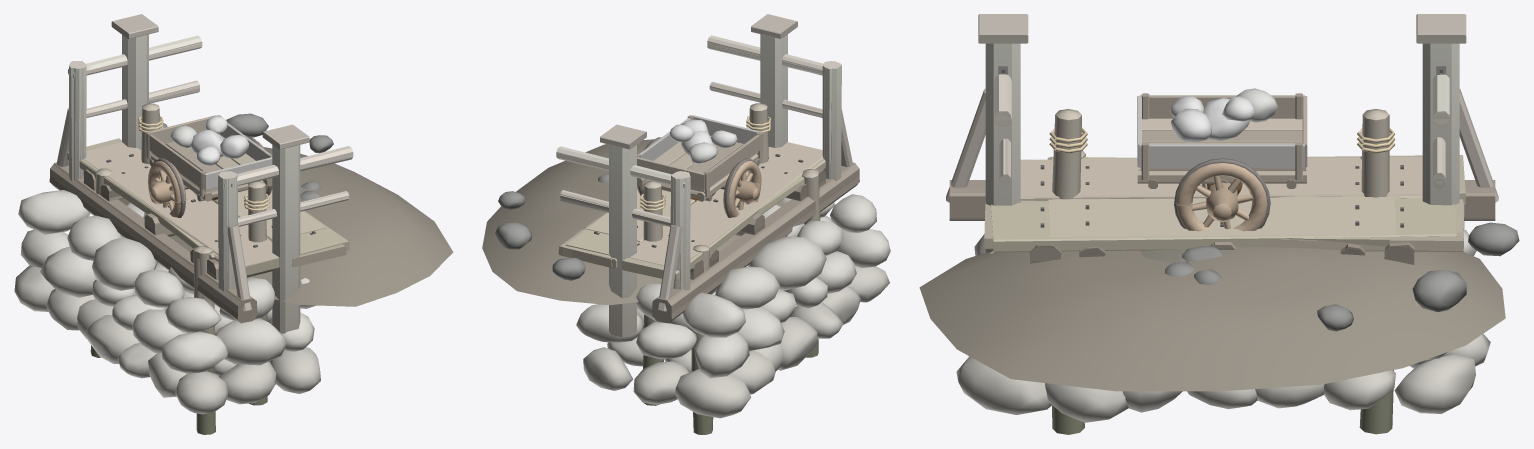
File: bridges_kit.glb
The picture shows the model from 3 angles, left to right: view 1: azimuth 30°, elevation 25°; view 2: azimuth 150°, elevation 25°; view 3: azimuth 270°, elevation 25°; orthographic projection. The views are drawn at different scales.
Visible parts, largest first — view 1: bridge_end, bridge_bay_a, miner_handcart, bridge_bay_b, bridge_bay_c, boardwalk_end, boardwalk_bay_b, boardwalk_bay_a; view 2: bridge_end, bridge_bay_a, miner_handcart, bridge_bay_c, bridge_bay_b, boardwalk_end, boardwalk_bay_a, boardwalk_bay_b; view 3: bridge_end, miner_handcart, bridge_bay_a, bridge_bay_c, boardwalk_bay_b, boardwalk_end, bridge_bay_b, boardwalk_bay_a.
Part boxes in pixels (x1,y1,x2,y2): bridge_end: (14, 14, 453, 414); bridge_bay_a: (49, 61, 352, 322); miner_handcart: (146, 115, 272, 217); bridge_bay_b: (50, 43, 353, 323); bridge_bay_c: (67, 35, 353, 322); boardwalk_end: (138, 103, 303, 405); boardwalk_bay_b: (90, 168, 325, 434); boardwalk_bay_a: (96, 166, 272, 431); bridge_end: (482, 14, 890, 418); bridge_bay_a: (556, 44, 859, 322); miner_handcart: (637, 115, 763, 217); bridge_bay_c: (556, 42, 841, 322); bridge_bay_b: (556, 35, 859, 323); boardwalk_end: (640, 103, 771, 405); boardwalk_bay_a: (584, 166, 820, 434); boardwalk_bay_b: (587, 167, 819, 434); bridge_end: (919, 14, 1519, 422); miner_handcart: (1137, 88, 1307, 231); bridge_bay_a: (946, 81, 1498, 264); bridge_bay_c: (949, 74, 1495, 264); boardwalk_bay_b: (1048, 168, 1396, 257); boardwalk_end: (1049, 109, 1394, 434); bridge_bay_b: (993, 74, 1463, 264); boardwalk_bay_a: (1047, 150, 1399, 256).
Bounding box in the file's own units: 2.71 × 2.52 × 3.12.
